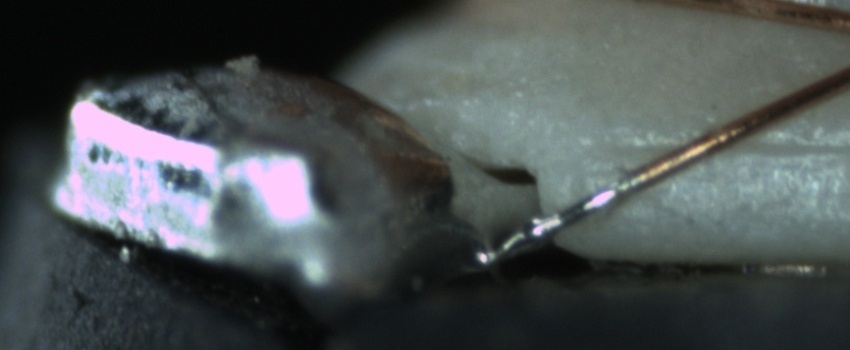DL: (608, 114, 844, 182)
TB: (520, 214, 553, 243)
TS: (469, 172, 635, 273)
TTCW: (471, 152, 666, 270)
